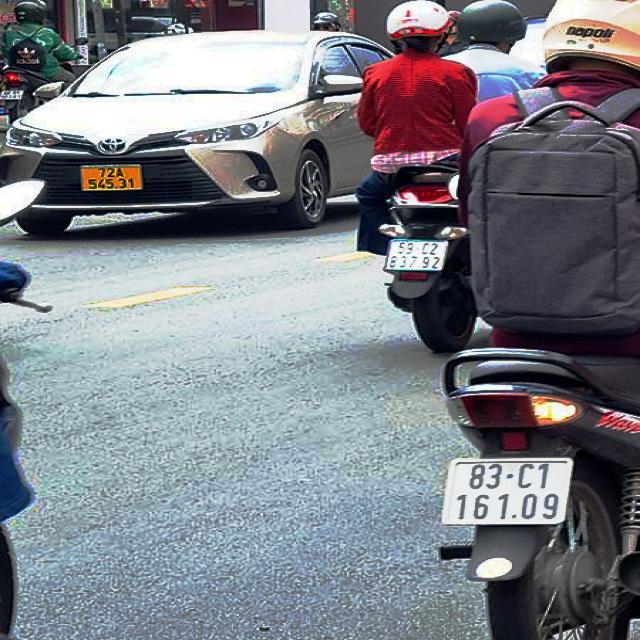license_plate: (444, 459, 573, 527), (388, 237, 448, 271), (80, 166, 144, 193)
